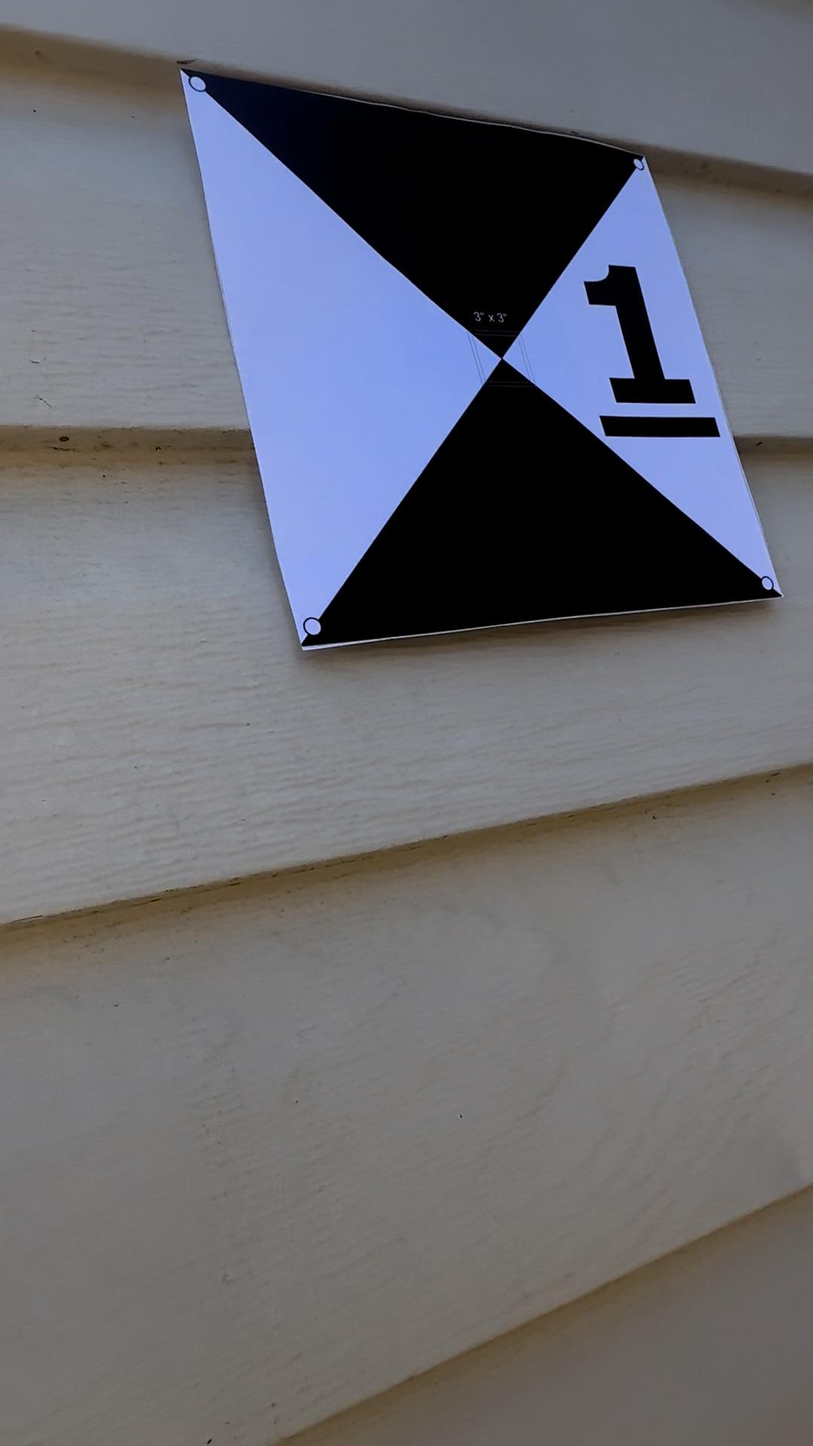target1: (167, 60, 805, 693)
